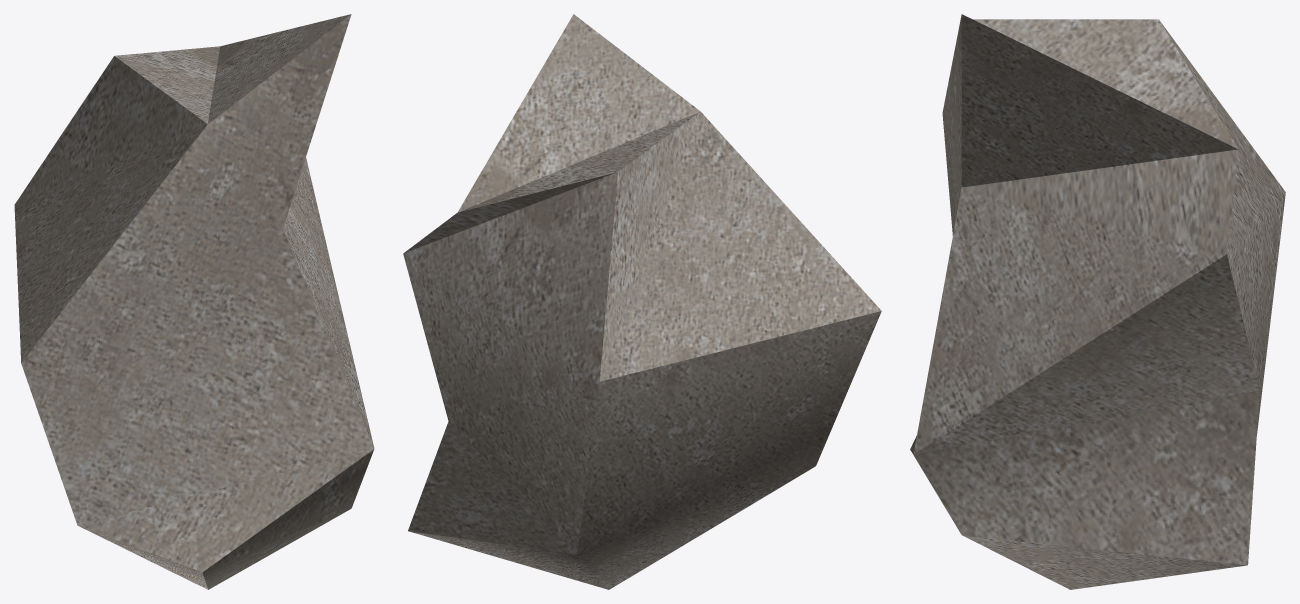
3 renders of one model, left to right at view 1: azimuth 30°, elevation 25°; view 2: azimuth 150°, elevation 25°; view 3: azimuth 270°, elevation 25°, orthographic. The views are drawn at different scales.
Parts seen in each view (by area): view 1: Cube.2; view 2: Cube.2; view 3: Cube.2.
Part boxes in pixels (x1=…): Cube.2: x1=14, y1=14, x2=374, y2=589; Cube.2: x1=403, y1=14, x2=881, y2=589; Cube.2: x1=910, y1=14, x2=1285, y2=589.
Bounding box in the file's own units: 0.0878 × 0.122 × 0.0667.
Materials: 1 (1 with a texture image).
